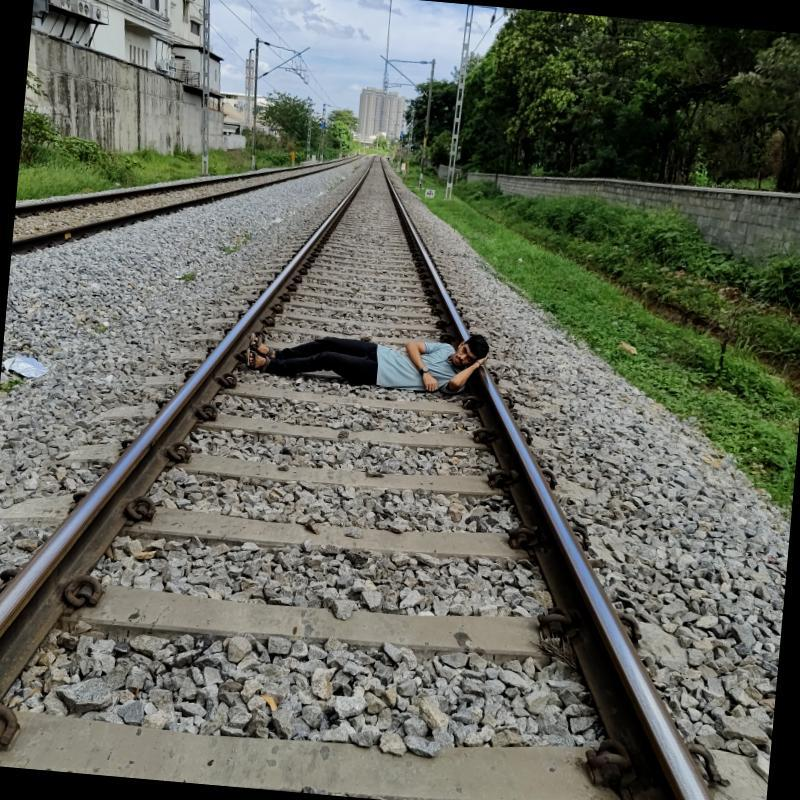sleeping: (233, 308, 496, 401)
